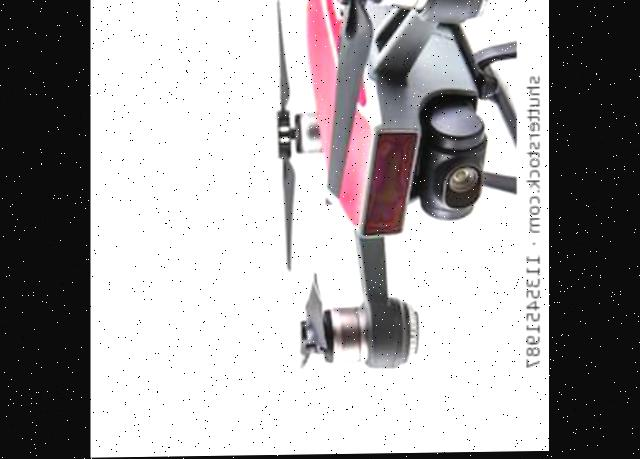drone: (240, 0, 521, 405)
